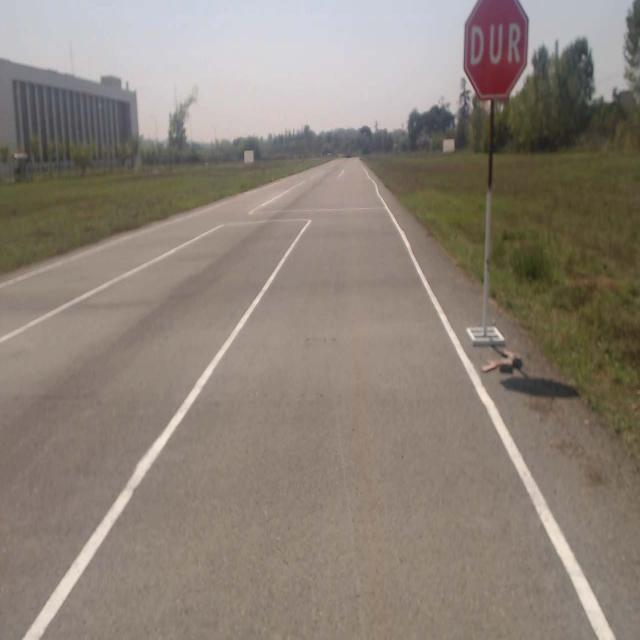dur: (465, 1, 527, 99)
